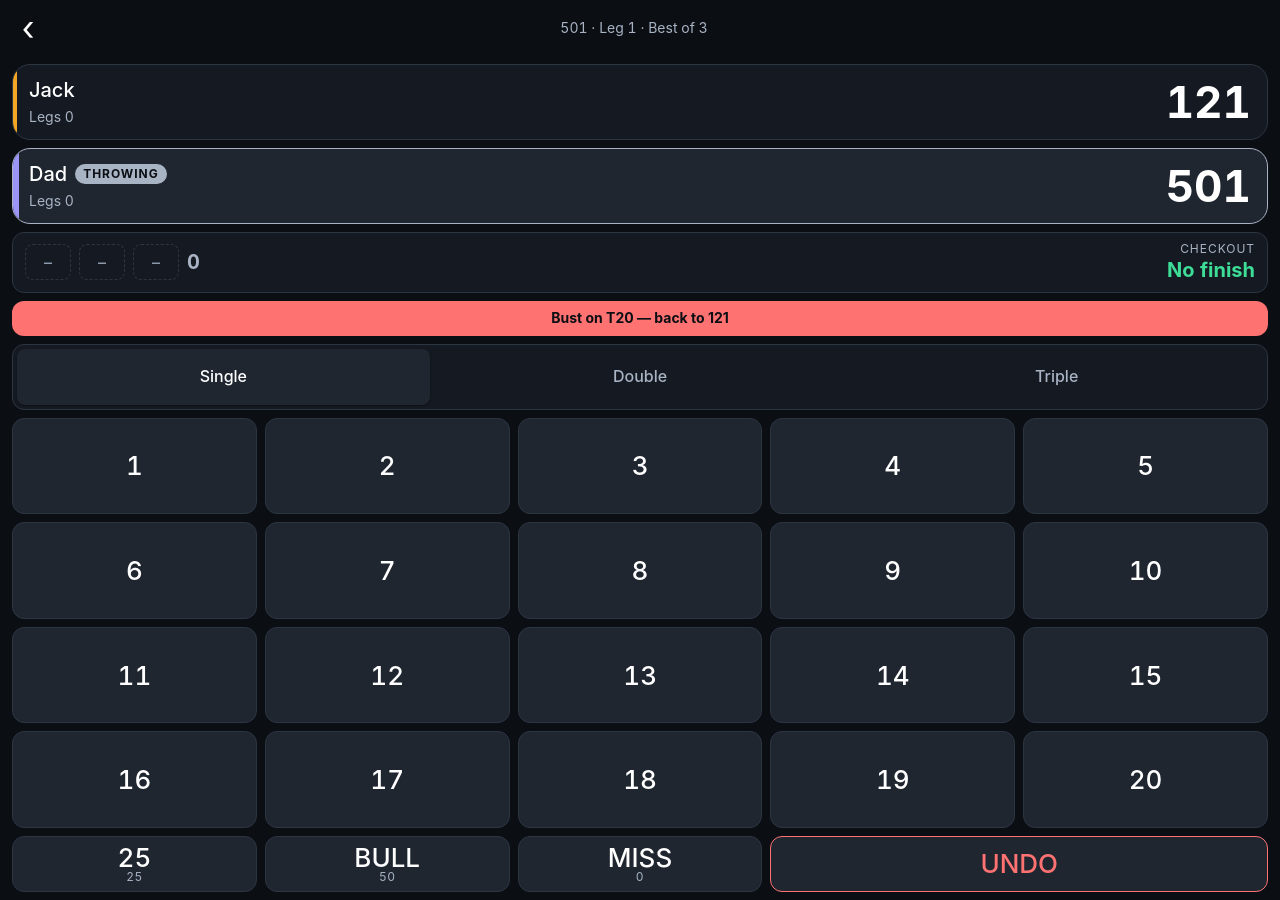
Test case: undo › restores the state a bust came from, including the score
Expected: the message shows "Bust on T20", [12,301,1268,336]
What coordinates should you click on to do the following:
click the button "UNDO"
I would click on:
 (1019, 864)
Its box is [770,836,1268,892].
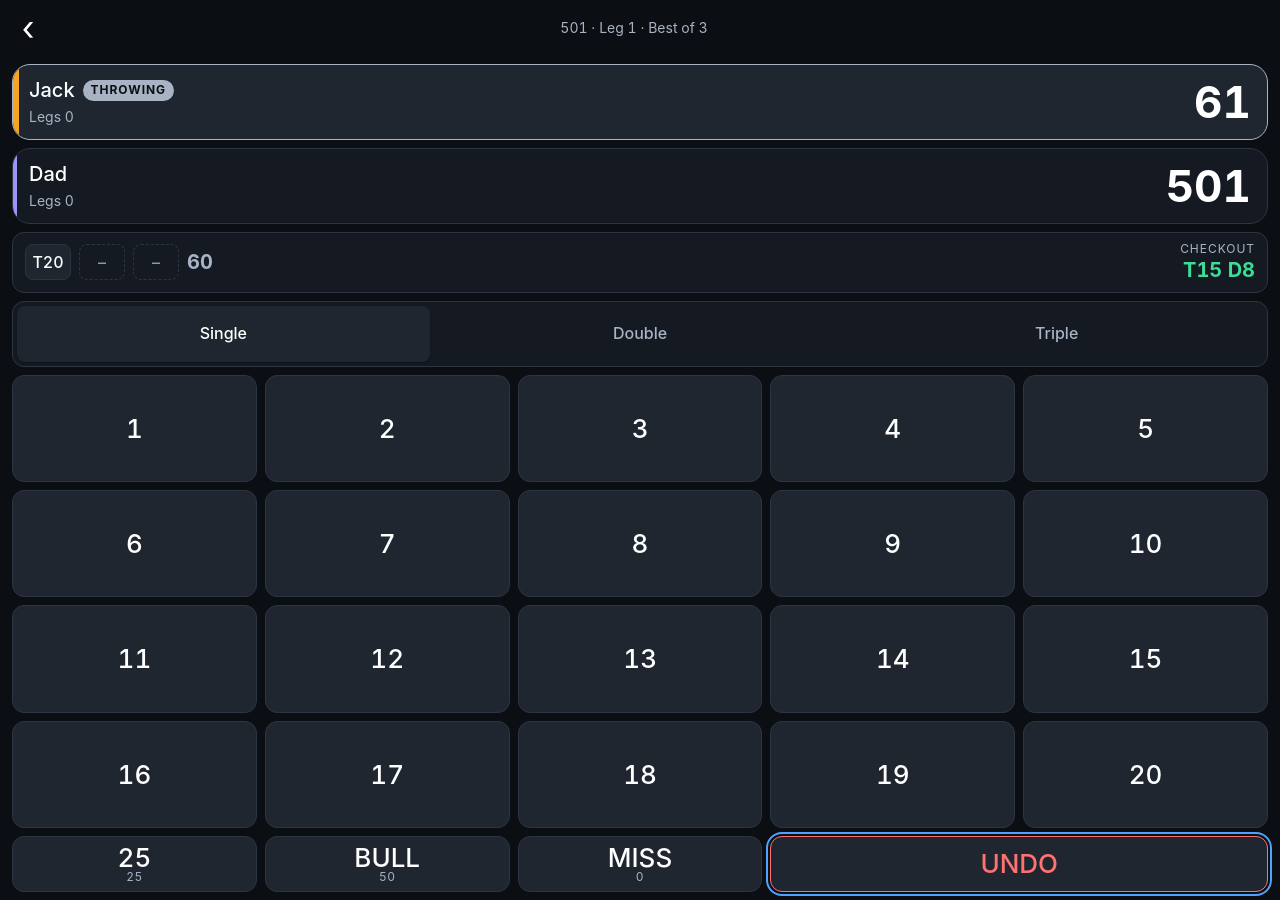
Expected: the message "Bust on T20 — back to 121" is gone
Expected: the element named "Jack, 61 remaining, 0 legs won, throwing now" is shown, [12,64,1268,140]
Expected: the text "T15 D8" is shown, [1183,258,1255,282]
